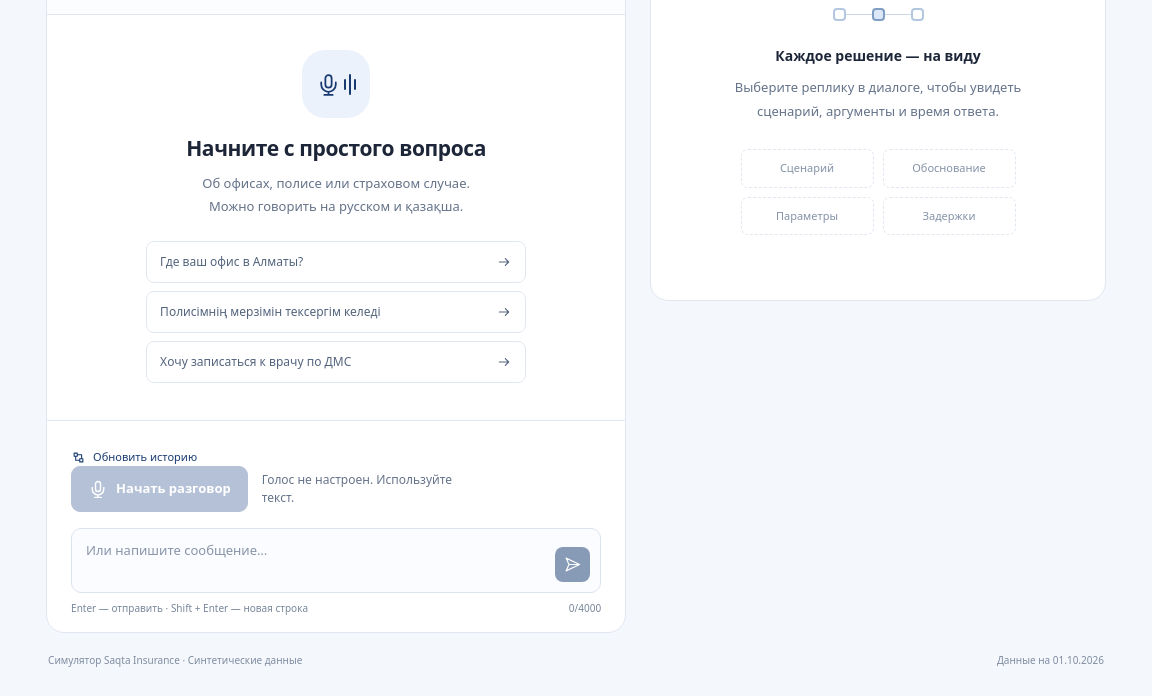
it: conversation lifecycle › renders pending preview without claiming an action was executed
(page scrolled)
Type "Расторгнуть полис" into the text box named "Ваша реплика" at (317, 560), box top-left (86, 539), bottom-right (547, 582)
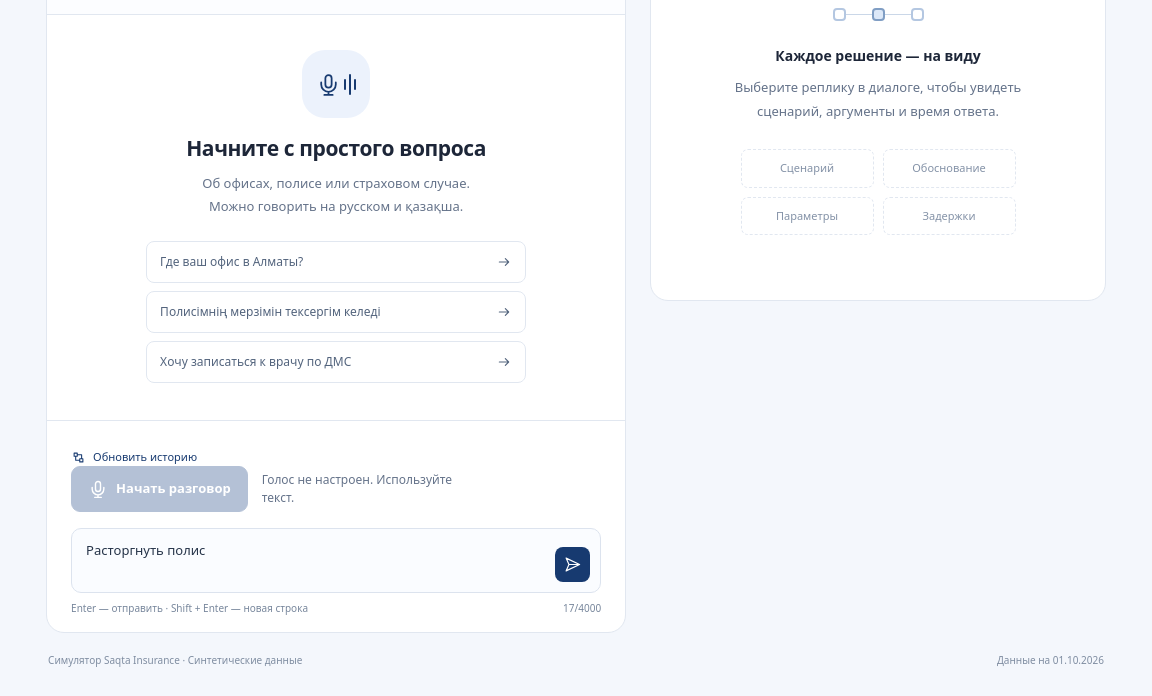
Click the button named "Отправить реплику" at (573, 564), box top-left (555, 547), bottom-right (590, 582)
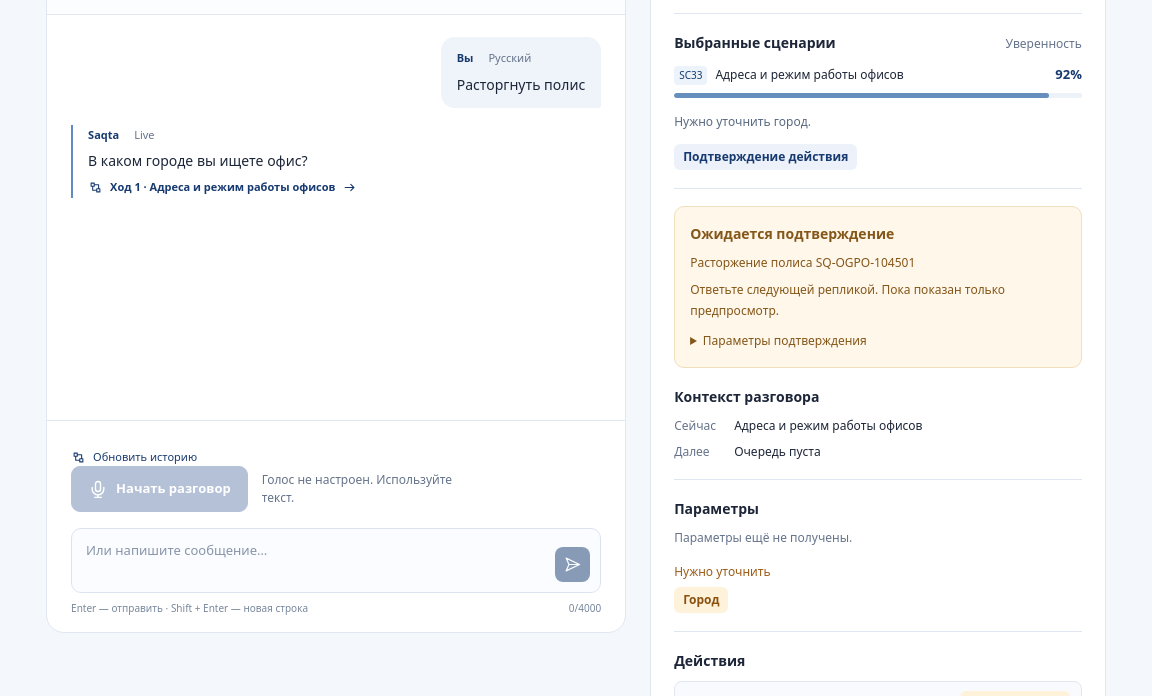
Expected: the heading "Ожидается подтверждение" is shown, top-left (690, 224), bottom-right (894, 243)
Expected: the text "Расторжение полиса SQ-OGPO-104501" is shown, top-left (690, 254), bottom-right (915, 271)
